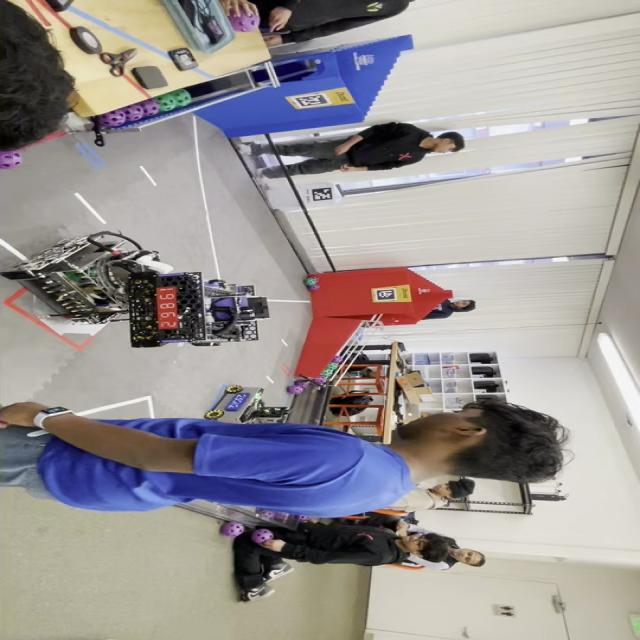artifact_green: (170, 89, 191, 107), (226, 385, 242, 393), (304, 277, 318, 286), (322, 369, 333, 376), (328, 363, 337, 371)
artifact_purple: (228, 13, 259, 31), (99, 109, 126, 127), (220, 522, 245, 537), (0, 152, 22, 169), (123, 104, 144, 121), (139, 99, 159, 116), (252, 529, 274, 544), (287, 384, 306, 394), (259, 510, 276, 519), (304, 276, 318, 285), (315, 376, 328, 385), (275, 512, 289, 519), (328, 363, 338, 371), (331, 356, 342, 363), (299, 516, 309, 523), (309, 284, 319, 291)
